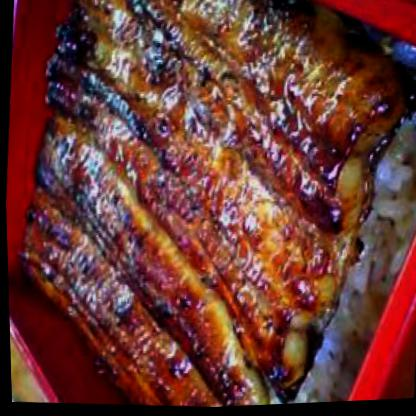eel: (14, 0, 403, 415)
